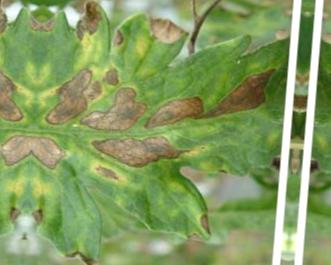Tomato leaf bacterial spot: (24, 0, 282, 262)
